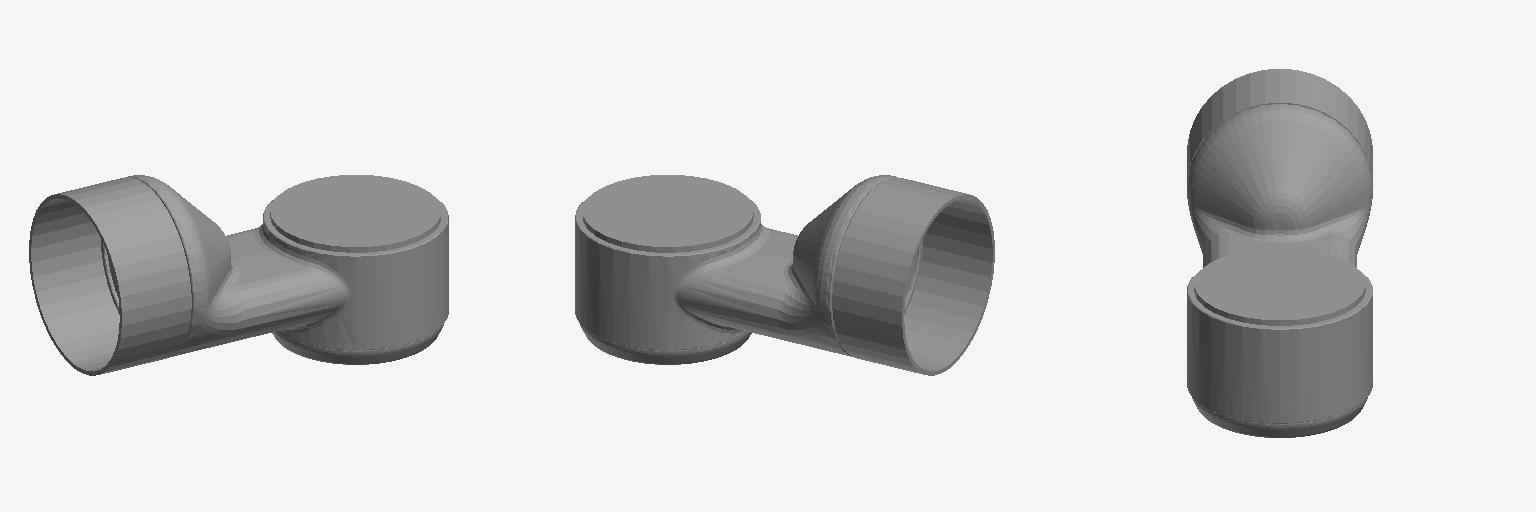
Rendered from upperarm_roll_link.obj.
3 renders of one model, left to right at view 1: azimuth 30°, elevation 25°; view 2: azimuth 150°, elevation 25°; view 3: azimuth 270°, elevation 25°, orthographic.
Visible parts, largest first — view 1: upperarm_roll_link_upperarm_roll_link; view 2: upperarm_roll_link_upperarm_roll_link; view 3: upperarm_roll_link_upperarm_roll_link.
Part boxes in pixels (x1,y1,x2,y2): upperarm_roll_link_upperarm_roll_link: (29,175,448,375); upperarm_roll_link_upperarm_roll_link: (575,175,994,375); upperarm_roll_link_upperarm_roll_link: (1187,69,1372,437).
Bounding box in the file's own units: 0.233 × 0.1225 × 0.104.